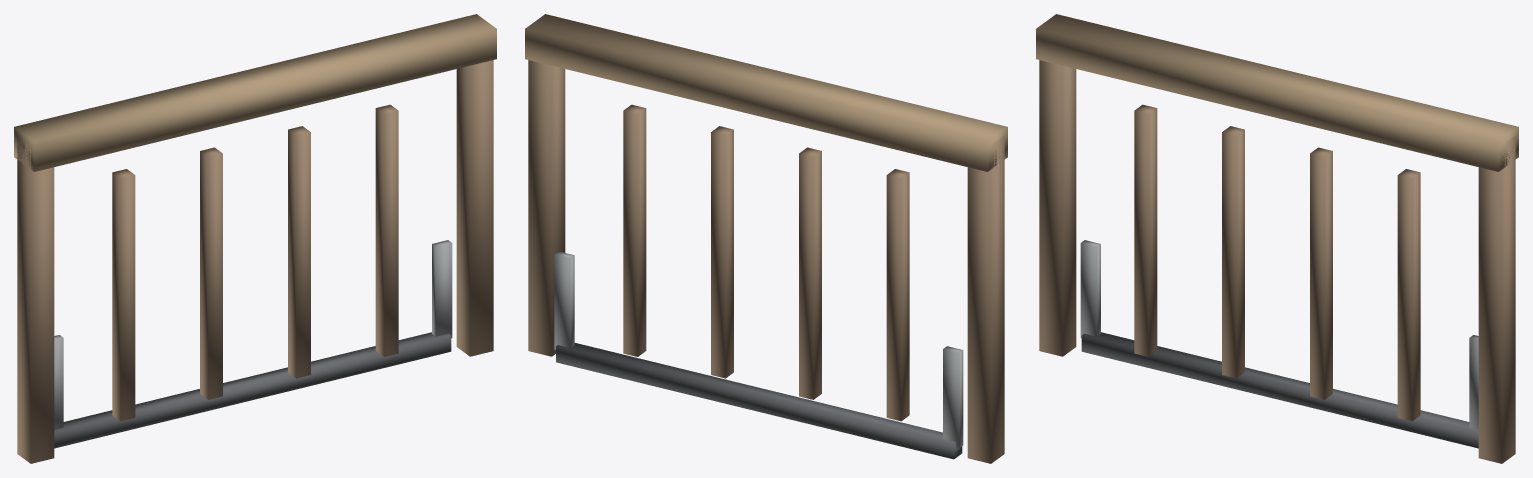
The model's file is court_rail__reinforced.glb.
3 views of the same model, side by side, from view 1: azimuth 30°, elevation 25°; view 2: azimuth 150°, elevation 25°; view 3: azimuth 330°, elevation 25° (orthographic).
Visible parts, largest first — view 1: world; view 2: world; view 3: world.
Boxes of the visible parts, box(x1,y1,x2,y2) form: world: box(14, 14, 496, 463); world: box(525, 14, 1007, 463); world: box(1036, 14, 1518, 463).
Size of the model in its own units: 1.63 by 1.09 by 0.1313.
